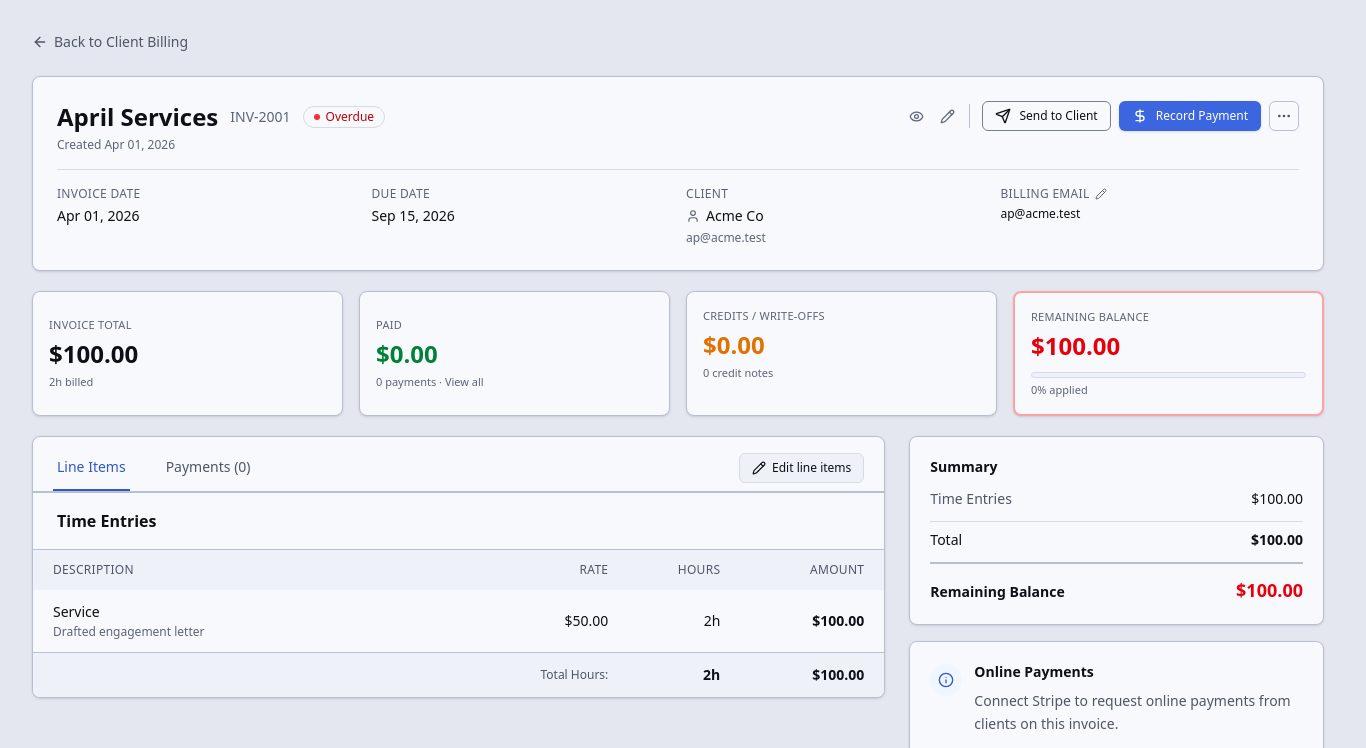
Test: offers Apply Late Fee on an overdue invoice when the firm has late fees on
Click the button named "More actions". click: (1284, 116)
box: [1269, 101, 1299, 131]
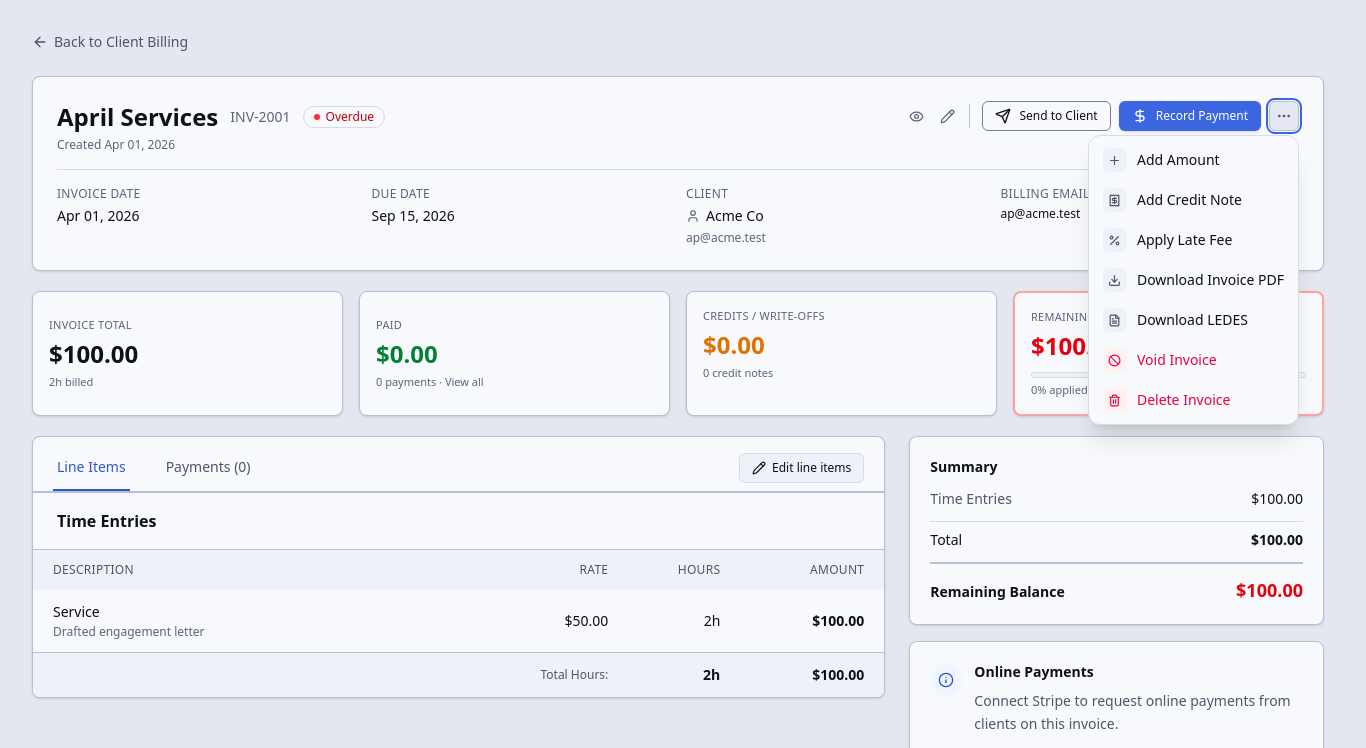
Expected: the button "Add Amount" is shown, [1093, 140, 1294, 180]
Expected: the button "Apply Late Fee" is shown, [1093, 220, 1294, 260]
